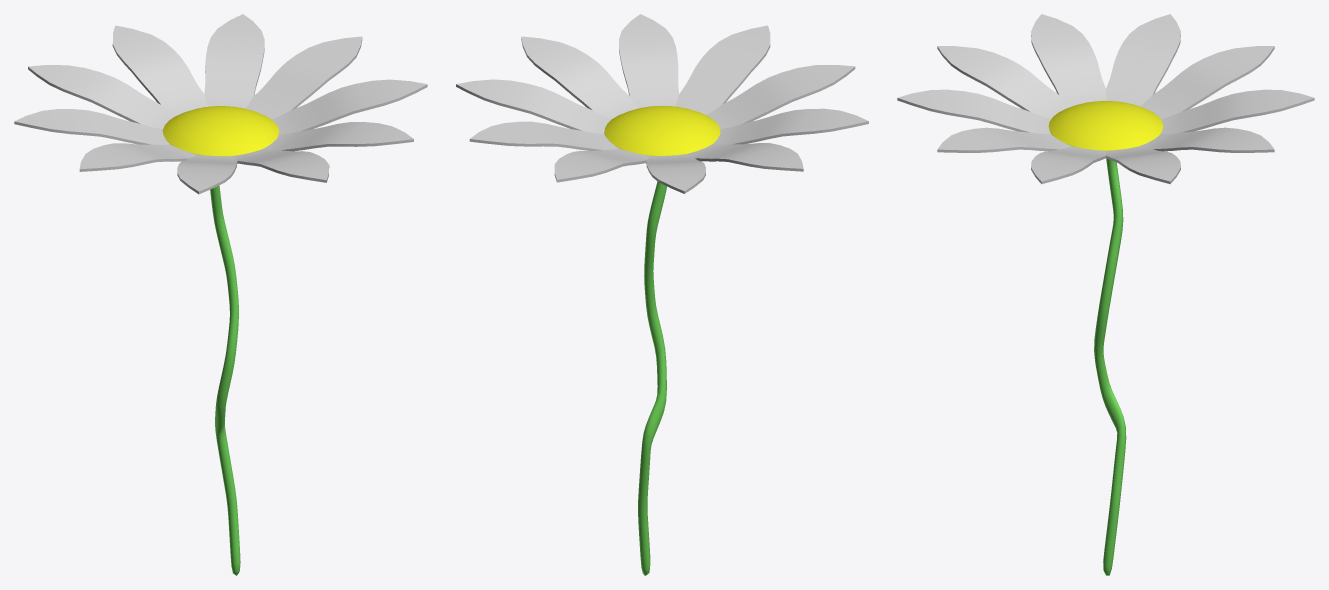
File: Flower.fbx
3 views of the same model, side by side, from view 1: azimuth 30°, elevation 25°; view 2: azimuth 150°, elevation 25°; view 3: azimuth 270°, elevation 25° (orthographic).
Visible parts, largest first — view 1: Cube.001, Sphere, Cube; view 2: Cube.001, Sphere, Cube; view 3: Cube.001, Cube, Sphere.
Part boxes in pixels (x1=…): Cube.001: x1=14, y1=14, x2=427, y2=194; Sphere: x1=162, y1=106, x2=279, y2=156; Cube: x1=210, y1=185, x2=240, y2=575; Cube.001: x1=456, y1=14, x2=868, y2=193; Sphere: x1=604, y1=106, x2=720, y2=155; Cube: x1=638, y1=181, x2=666, y2=575; Cube.001: x1=897, y1=14, x2=1314, y2=184; Cube: x1=1094, y1=158, x2=1126, y2=575; Sphere: x1=1048, y1=101, x2=1163, y2=150.
Bounding box in the file's own units: 677 × 887 × 712.
